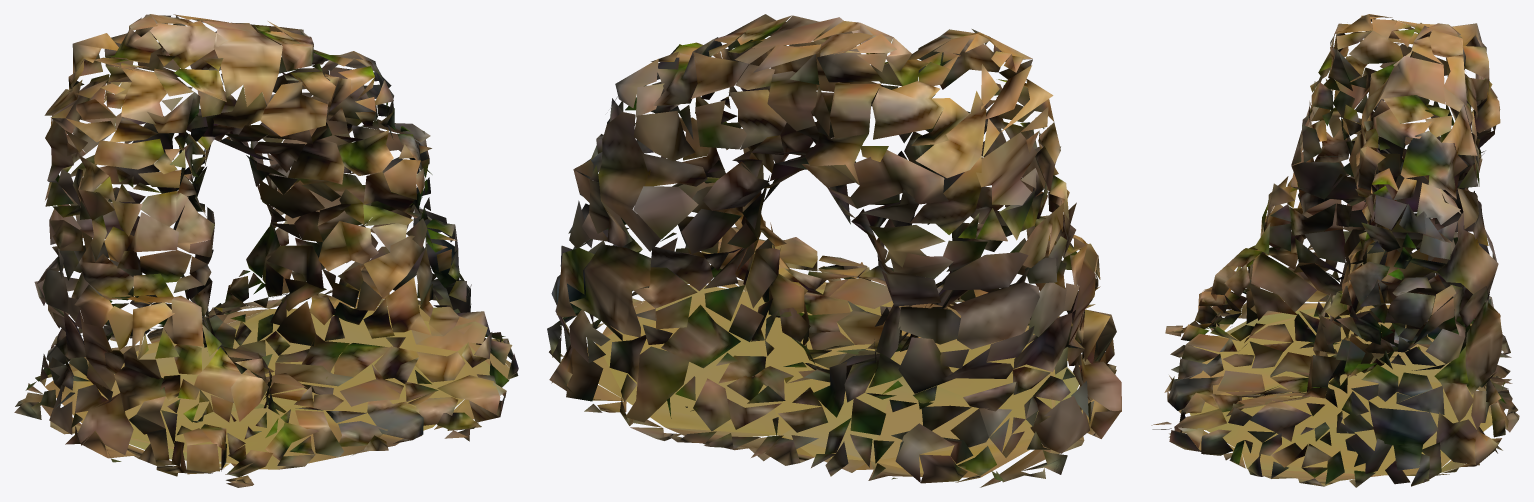
File: Rocky_Archway_town.glb
The picture shows the model from 3 angles, left to right: view 1: azimuth 30°, elevation 25°; view 2: azimuth 150°, elevation 25°; view 3: azimuth 270°, elevation 25°; orthographic projection. The views are drawn at different scales.
Parts seen in each view (by area): view 1: Rocky_Archway; view 2: Rocky_Archway; view 3: Rocky_Archway.
Part boxes in pixels (x1,y1,x2,y2): Rocky_Archway: (14, 14, 518, 487); Rocky_Archway: (547, 14, 1121, 487); Rocky_Archway: (1151, 14, 1519, 487).
Bounding box in the file's own units: 1.88 × 1.42 × 1.44.
1 material, 1 textured.
